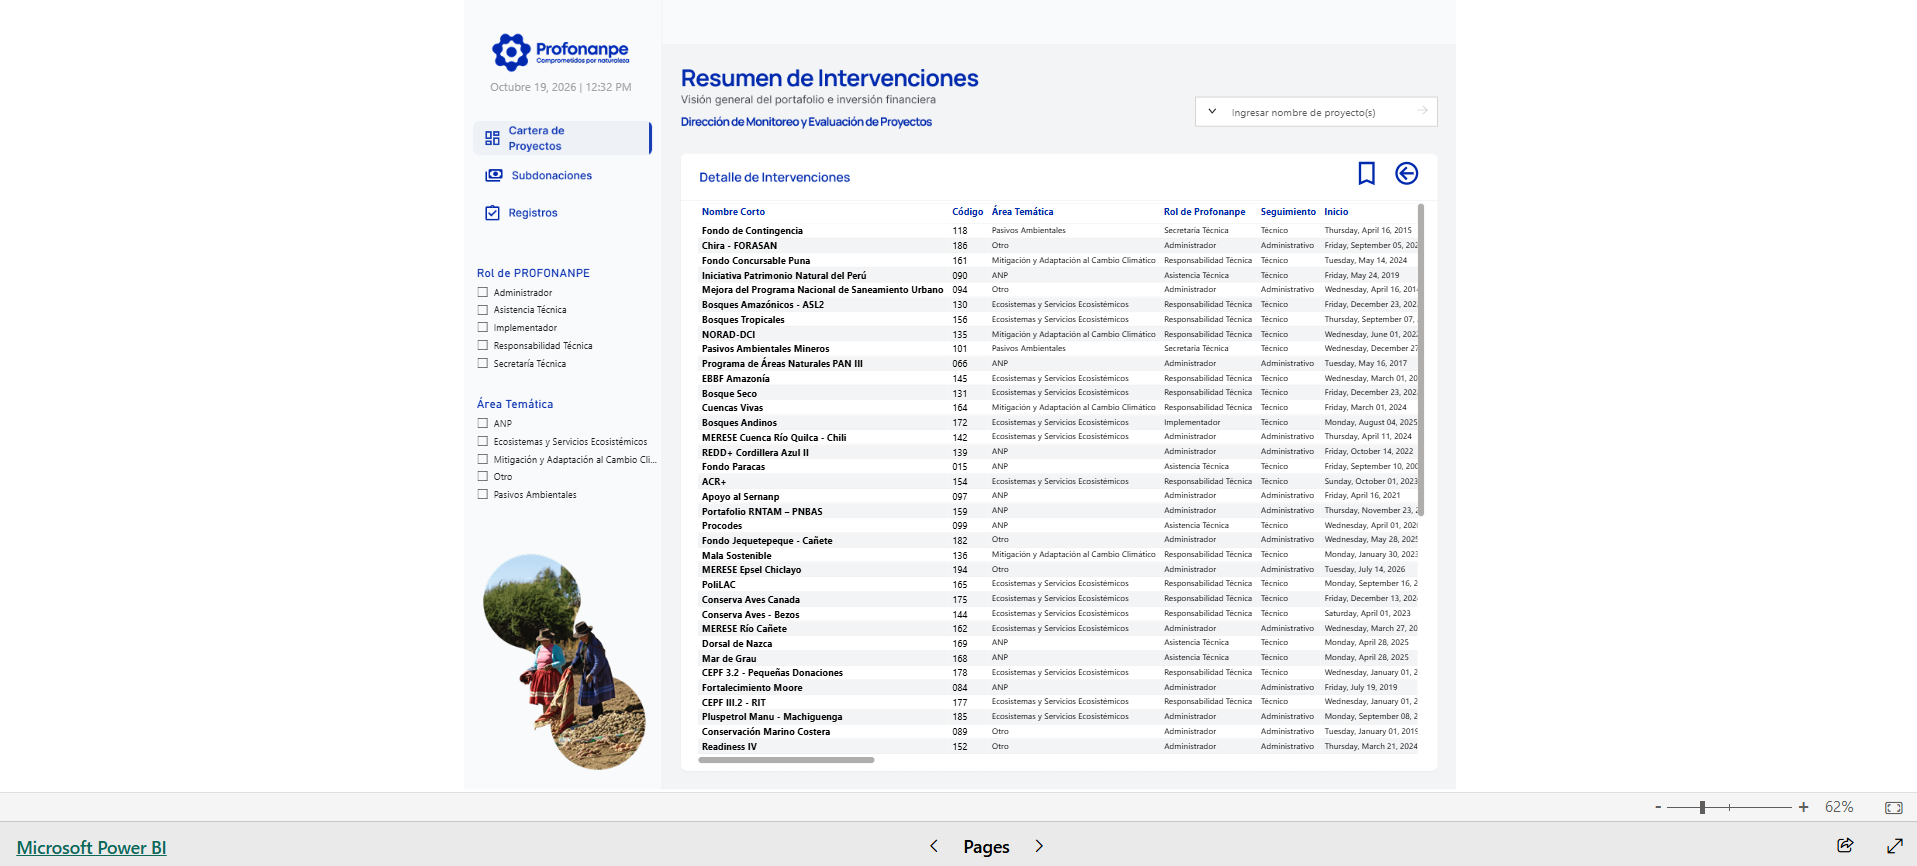

What the dashboard file says about the page in this screenshot:
{"tool":"powerbi","page":{"name":"Cartera de Proyectos","canvas":[1280,1024],"ordinal":0},"visuals":[{"type":"advancedSlicerVisual","fields":{"Values":["Fact_Proyectos.Seguimiento"]},"box":[1086.2,12.5,193.8,48],"z":0},{"type":"card","fields":{"Values":["_Measure.Monto Dolarizado"]},"box":[648.6,207.6,248.8,108.1],"z":1000},{"type":"card","fields":{"Values":["Measure.Total Proyectos DIME"]},"box":[978.6,205.7,245.7,108.6],"z":2000},{"type":"card","fields":{"Values":["Measure.N_Proyectos"]},"box":[315.7,205.7,248.6,108.6],"z":3000},{"type":"shapeMap","fields":{"Category":["Dim_Departamentos.Departamento"],"Series":["Dim_Ubicacion.Ubigeo"],"Value":["_Measure.Proyectos por Departamento"]},"box":[474.3,351.4,447.1,347.1],"z":4000},{"type":"slicer","title":"REGIONES","fields":{"Values":["Fact_Proyectos.Región"]},"box":[288.6,357.1,185.7,332.9],"z":5000},{"type":"textSlicer","fields":{"Values":["Fact_Proyectos.Nombre corto"]},"box":[252.9,12.9,291.4,48.6],"z":6000},{"type":"htmlContent443BE3AD55E043BF878BED274D3A6855","fields":{"content":["_Measure.HTML Región2"]},"box":[957.1,392.9,287.1,327.1],"z":7000},{"type":"cardVisual","fields":{"Data":["_Measure.Fecha Actualizacion"]},"box":[1050,141.4,212.9,64.3],"z":8000},{"type":"listSlicer","fields":{"Values":["Fact_Proyectos.Tipo proyecto"]},"box":[12,344.6,253.9,144.1],"z":9000},{"type":"listSlicer","fields":{"Values":["Dim_Roles.Rol de Profonanpe"]},"box":[12,514.1,253.9,109.8],"z":10000},{"type":"pageNavigator","box":[12.5,160,227.5,43.8],"z":11000},{"type":"pivotTable","fields":{"Rows":["Fact_Proyectos.CodigoProyecto","Fact_Proyectos.Nombre corto"],"Values":["Min(Fact_Proyectos.Fecha de inicio)","Min(Fact_Proyectos.Fecha Max)","Min(Fact_Proyectos.Moneda)","Sum(Fact_Proyectos.Monto del donante)","_Measure.Roles Profonanpe","Min(Fact_Proyectos.Fuente de financiamiento)","Min(Fact_Proyectos.Ejecutor)","Min(Fact_Proyectos.Aliados para la ejecución ( Gores, Municipalidades y  Empresas))","Min(Fact_Proyectos.Avances Clave ( al 31.12.25))"]},"box":[296.8,777.3,947.1,214.5],"z":12000},{"type":"actionButton","box":[655.4,205.9,250.5,108.1],"z":13000},{"type":"textbox","box":[990,21.4,117.1,40],"z":14000},{"type":"pageNavigator","box":[12,205.9,228.2,42.9],"z":16000}]}

Visuals, with their boxes on the page's 1280x1024 design canvas (x1, y1, x2, y2). These are canvas units, not pixel positions in the 1917x866 screenshot, which may show the page scaled, cropped or inside an application window:
advancedSlicerVisual - Fact_Proyectos.Seguimiento: left=1086, top=12, right=1280, bottom=60
card - _Measure.Monto Dolarizado: left=649, top=208, right=897, bottom=316
card - Measure.Total Proyectos DIME: left=979, top=206, right=1224, bottom=314
card - Measure.N_Proyectos: left=316, top=206, right=564, bottom=314
shapeMap - Dim_Departamentos.Departamento x Dim_Ubicacion.Ubigeo: left=474, top=351, right=921, bottom=698
"REGIONES" slicer: left=289, top=357, right=474, bottom=690
textSlicer - Fact_Proyectos.Nombre corto: left=253, top=13, right=544, bottom=62
htmlContent443BE3AD55E043BF878BED274D3A6855 - _Measure.HTML Región2: left=957, top=393, right=1244, bottom=720
cardVisual - _Measure.Fecha Actualizacion: left=1050, top=141, right=1263, bottom=206
listSlicer - Fact_Proyectos.Tipo proyecto: left=12, top=345, right=266, bottom=489
listSlicer - Dim_Roles.Rol de Profonanpe: left=12, top=514, right=266, bottom=624
pageNavigator: left=12, top=160, right=240, bottom=204
pivotTable - Fact_Proyectos.CodigoProyecto x Fact_Proyectos.Nombre corto: left=297, top=777, right=1244, bottom=992
actionButton: left=655, top=206, right=906, bottom=314
textbox: left=990, top=21, right=1107, bottom=61
pageNavigator: left=12, top=206, right=240, bottom=249
